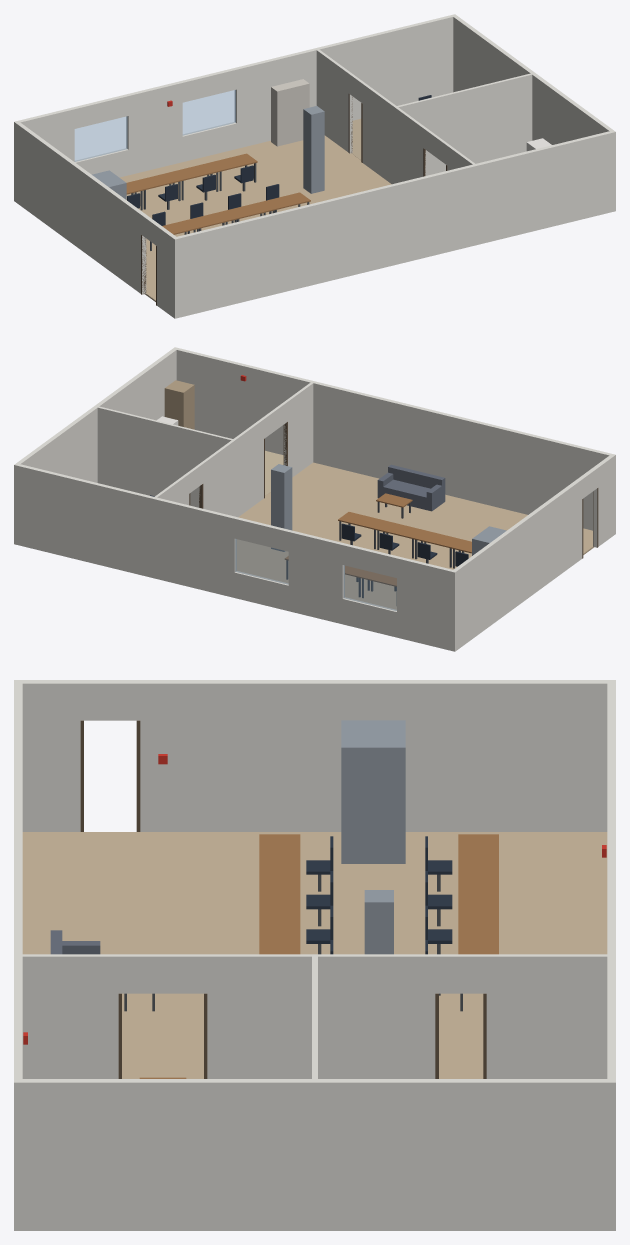
File: startup-open-office.glb
The picture shows the model from 3 angles, top to bottom: view 1: azimuth 30°, elevation 25°; view 2: azimuth 150°, elevation 25°; view 3: azimuth 270°, elevation 25°; orthographic projection. The views are drawn at different scales.
Visible parts, largest first — view 1: wall_south, wall_north (×3), wall_west (×2), floor_open_work, wall_wall_meeting_s, wall_east, wall_wall_meeting_w (×2), wall_wall_kitchen_w (×2), supply_shelf_body, pillar_body, window_n1_glass, window_n2_glass (+12 smaller); view 2: wall_south, wall_north (×3), floor_open_work, wall_west (×2), wall_wall_meeting_s, wall_east, wall_wall_kitchen_w (×2), wall_wall_meeting_w (×2), window_n2_glass, window_n1_glass, window_n2_sill, window_n1_sill (+12 smaller); view 3: wall_east, wall_west (×2), floor_open_work, wall_wall_meeting_w (×2), wall_wall_kitchen_w (×2), phone_booth_body, wall_south, kitchen_opening_header, wall_north, entrance_header, pillar_body, meeting_door_header (+7 smaller).
Boxes of the visible parts, box(x1,y1,x2,y2) form: wall_south: box(172, 130, 615, 318); wall_north (×3): box(14, 14, 456, 202); wall_west (×2): box(16, 122, 176, 316); floor_open_work: box(120, 135, 391, 300); wall_wall_meeting_s: box(395, 73, 532, 175); wall_east: box(453, 16, 613, 144); wall_wall_meeting_w (×2): box(316, 49, 396, 184); wall_wall_kitchen_w (×2): box(394, 107, 475, 183); supply_shelf_body: box(271, 79, 309, 146); pillar_body: box(303, 106, 324, 193); window_n1_glass: box(74, 116, 127, 161); window_n2_glass: box(182, 90, 235, 135); wall_south: box(173, 347, 615, 535); wall_north (×3): box(14, 463, 457, 651); floor_open_work: box(237, 462, 592, 609); wall_west (×2): box(453, 455, 613, 649); wall_wall_meeting_s: box(97, 406, 232, 507); wall_east: box(16, 349, 176, 482); wall_wall_kitchen_w (×2): box(233, 382, 313, 517); wall_wall_meeting_w (×2): box(154, 439, 235, 516); window_n2_glass: box(235, 539, 288, 584); window_n1_glass: box(343, 565, 396, 610); window_n2_sill: box(234, 571, 288, 610); window_n1_sill: box(342, 597, 396, 637); wall_east: box(22, 1079, 607, 1230); wall_west (×2): box(22, 680, 607, 831); floor_open_work: box(23, 832, 606, 1078); wall_wall_meeting_w (×2): box(315, 954, 607, 1078); wall_wall_kitchen_w (×2): box(22, 954, 314, 1078); phone_booth_body: box(341, 720, 405, 863); wall_south: box(14, 680, 22, 1230); kitchen_opening_header: box(122, 954, 203, 993); wall_north: box(607, 881, 615, 1230); entrance_header: box(84, 680, 136, 720); pillar_body: box(364, 890, 393, 954); meeting_door_header: box(439, 954, 483, 993).
Size of the model in its own units: 16.31 by 2.85 by 10.3.
